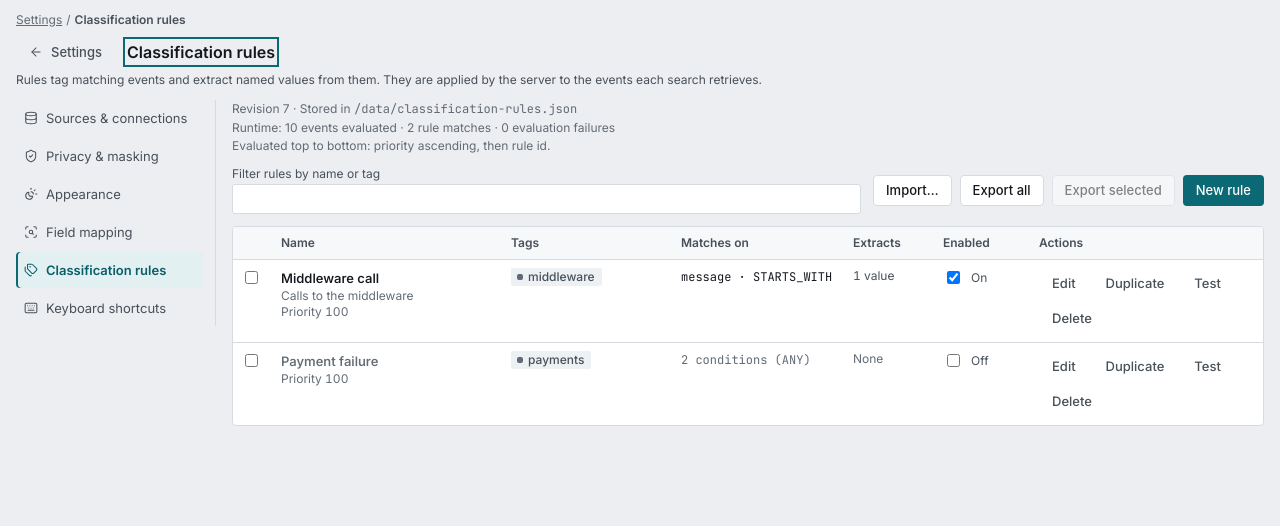
Test: ClassificationRulesWorkspace - list › a 409 on toggle shows the conflict message, and Reload rules re-fetches the state
Click the switch named "Enabled: Middleware call" at (954, 278), box [947,271,960,284]
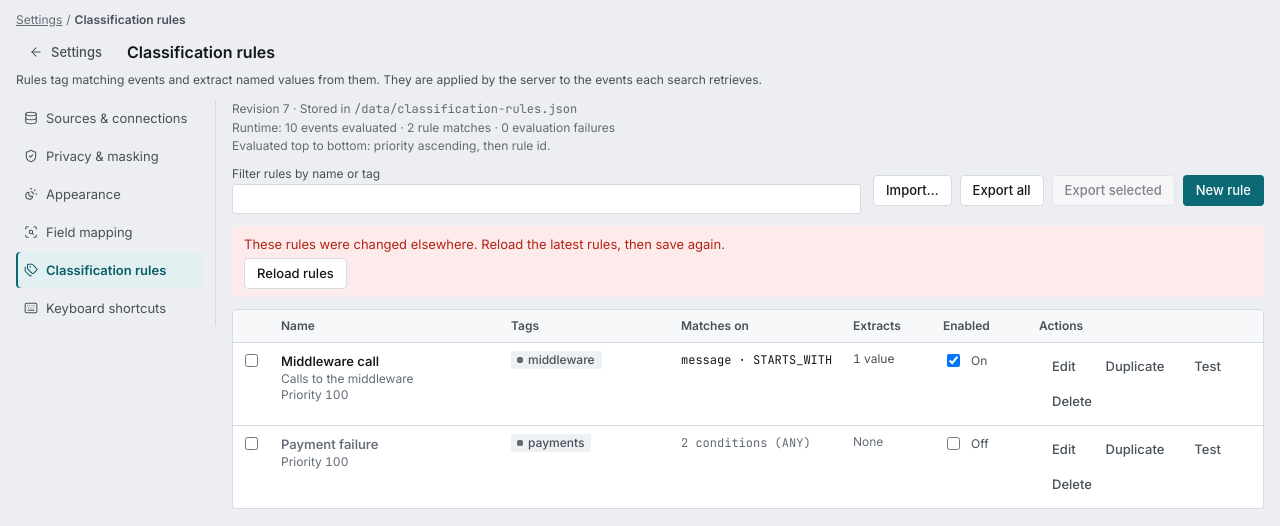
Result: the text "These rules were changed elsewhere. Reload the latest rules, then save again." is shown at [244,236,725,252]
Click the button "Reload rules" at (295, 274), box [244,258,347,289]
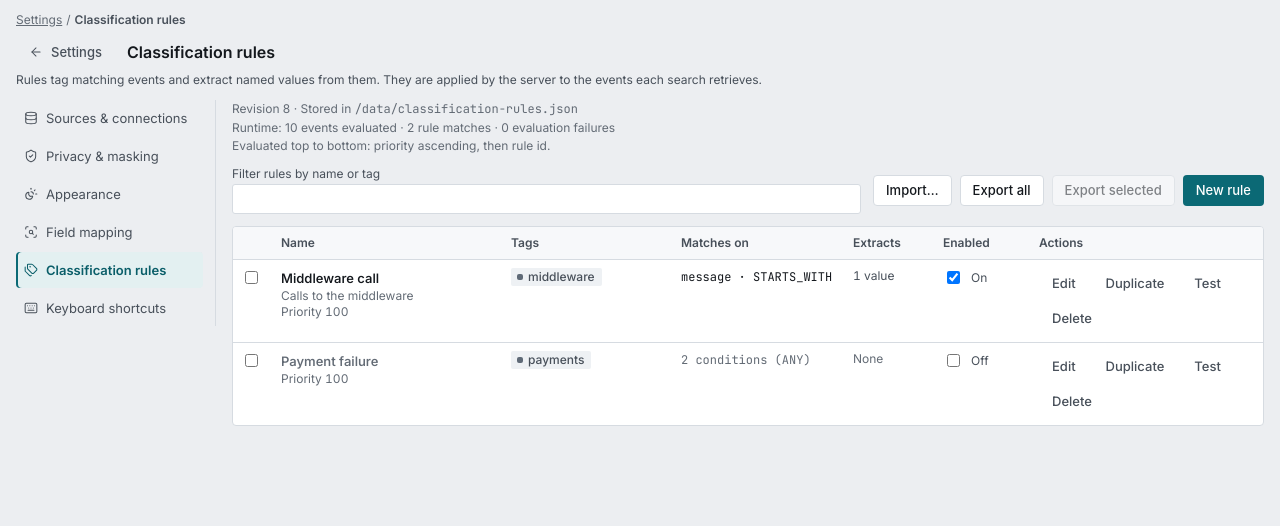
Result: the text "Revision 8 · Stored in /data/classification-rules.json" is shown at [232,101,578,117]
Result: the text "changed elsewhere" is gone
